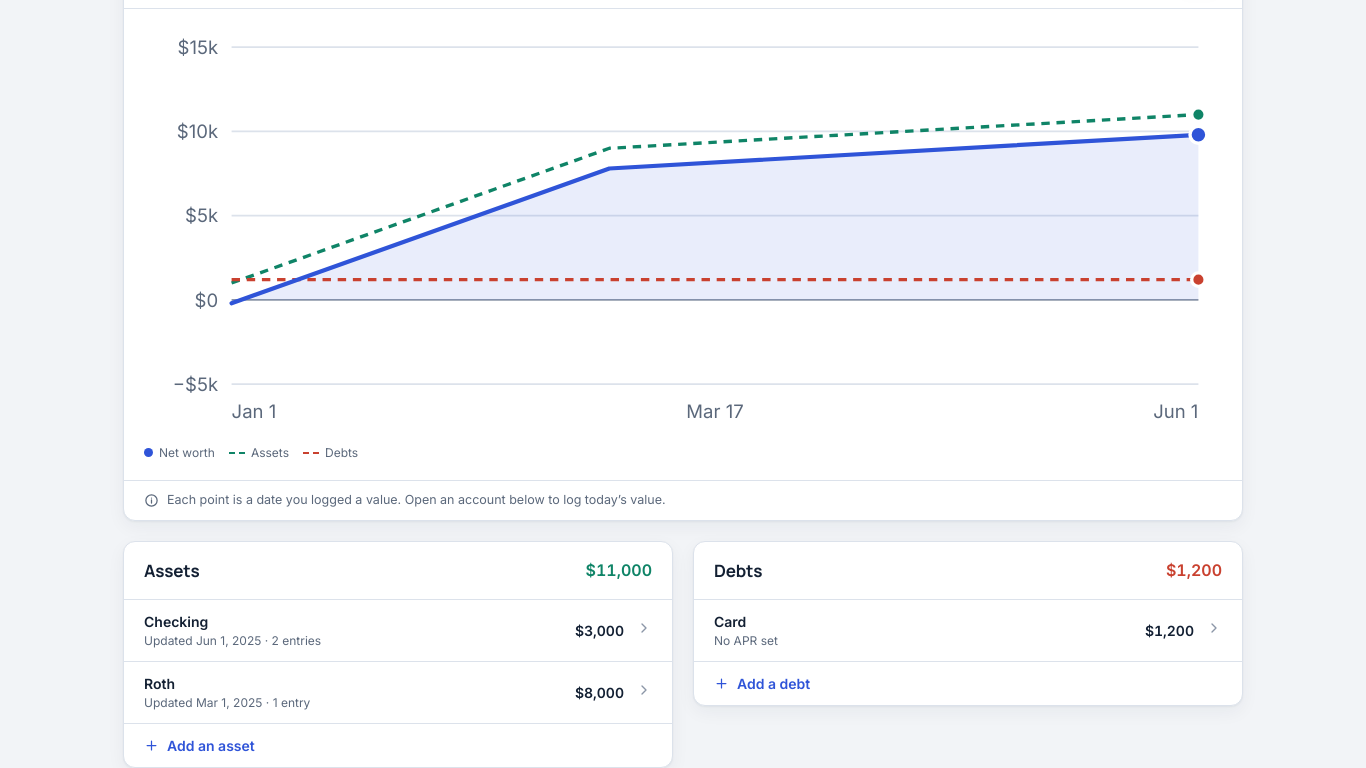
Test: net worth page › sets APR and payment on a debt
Later steps or results of the test are not shown.
(page scrolled)
Click the button "Card No APR set $1,200": (730, 622) [694,600,1242,661]
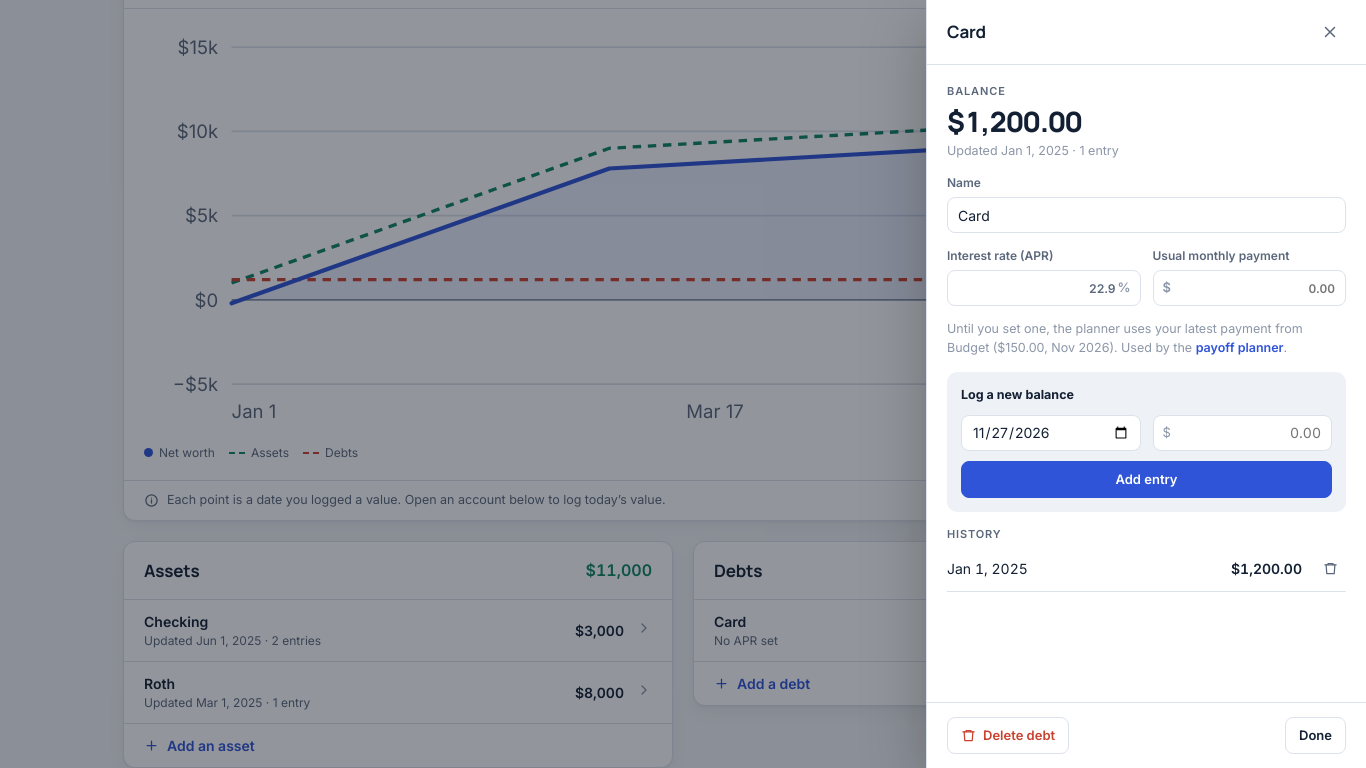
Result: the element with class "drawer" shows "latest payment from Budget ($150.00" at [947,321,1303,355]
